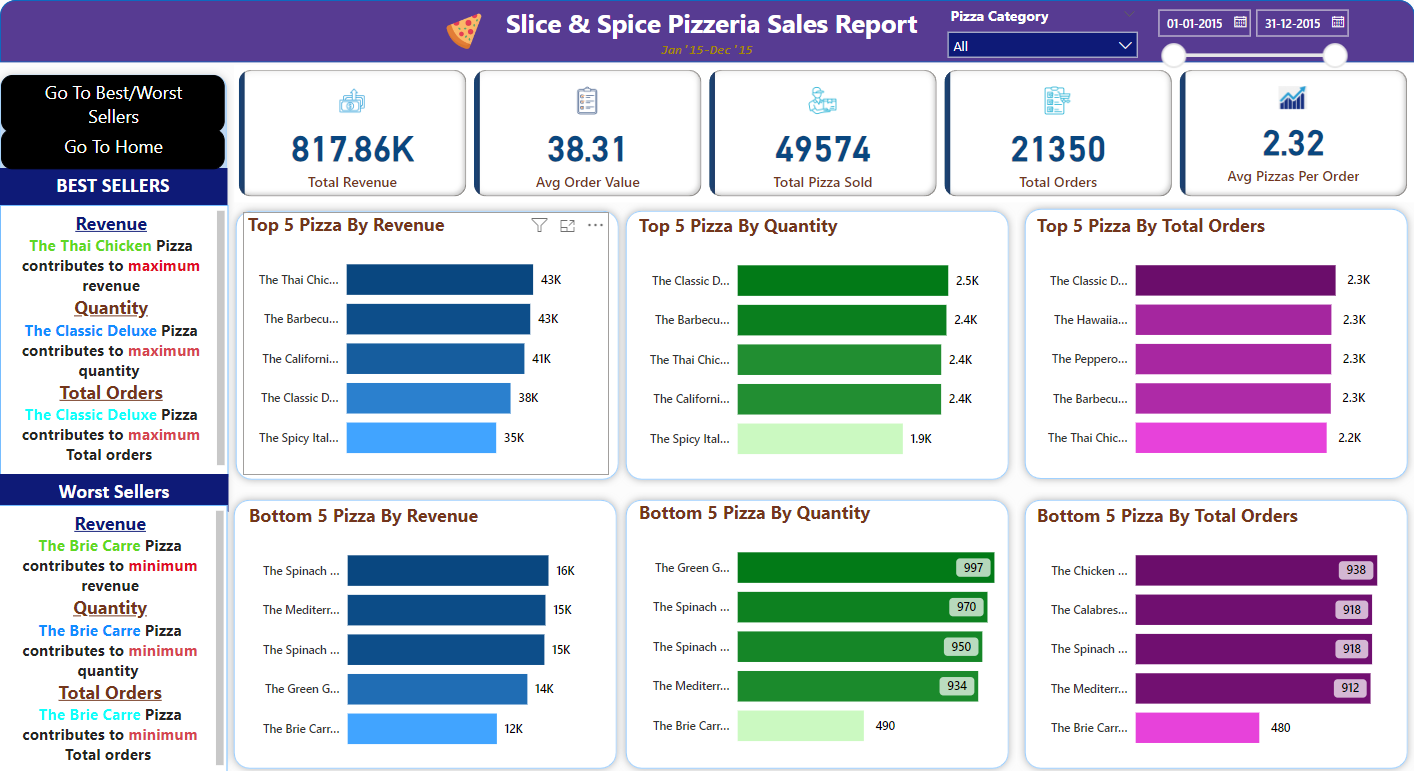

This screenshot's page, from the dashboard's own definition file:
{"tool":"powerbi","page":{"name":"Best/Worst Sellers","canvas":[1500,820],"ordinal":1},"visuals":[{"type":"cardVisual","fields":{"Data":["firstdb pizza_sales.Total Revenue","firstdb pizza_sales.Avg Order Value","firstdb pizza_sales.Total Pizza Sold","firstdb pizza_sales.Total Orders","firstdb pizza_sales.Avg Pizzas Per Order"]},"box":[252.5,78.8,1230,142.5],"z":0},{"type":"shape","box":[8.8,11.2,1473.8,65],"z":1000},{"type":"textbox","box":[492.5,11.2,513.8,52.5],"z":2000},{"type":"textbox","box":[691.2,48.8,117.5,30],"z":3000},{"type":"image","box":[465,20,53.8,47.5],"z":4000},{"type":"shape","box":[246.2,222.5,415,296.2],"z":5000},{"type":"shape","box":[0,81.2,252.5,738.8],"z":6000},{"type":"textbox","box":[7.5,186.2,237.5,38.8],"z":7000},{"type":"textbox","box":[8.8,225,237.5,282.5],"z":8000},{"type":"textbox","box":[8.8,505,237.5,38.8],"z":9000},{"type":"slicer","title":"Pizza","fields":{"Values":["firstdb pizza_sales.pizza_category"]},"box":[985,12.5,217.5,61.2],"z":10000},{"type":"slicer","title":"Pizza","fields":{"Values":["firstdb pizza_sales.order_date"]},"box":[1202.5,11.2,217.5,100],"z":11000},{"type":"shape","box":[652.5,222.5,415,296.2],"z":12000},{"type":"shape","box":[1067.5,221.2,415,297.5],"z":13000},{"type":"shape","box":[243.8,523.8,415,296.2],"z":14000},{"type":"shape","box":[652.5,523.8,415,296.2],"z":15000},{"type":"shape","box":[1067.5,523.8,415,296.2],"z":16000},{"type":"barChart","title":"Top 5 Pizza By Revenue","fields":{"Category":["firstdb pizza_sales.pizza_name"],"Y":["firstdb pizza_sales.Total Revenue"]},"box":[261.2,232.5,381.2,273.8],"z":17000},{"type":"barChart","title":"Bottom 5 Pizza By Revenue","fields":{"Category":["firstdb pizza_sales.pizza_name"],"Y":["firstdb pizza_sales.Total Revenue"]},"box":[262.5,535,381.2,273.8],"z":18000},{"type":"barChart","title":"Top 5 Pizza By Quantity","fields":{"Category":["firstdb pizza_sales.pizza_name"],"Y":["firstdb pizza_sales.Total Pizza Sold"]},"box":[668.8,233.8,381.2,273.8],"z":19000},{"type":"barChart","title":"Bottom 5 Pizza By Quantity","fields":{"Category":["firstdb pizza_sales.pizza_name"],"Y":["firstdb pizza_sales.Total Pizza Sold"]},"box":[668.8,532.5,381.2,273.8],"z":20000},{"type":"barChart","title":"Top 5 Pizza By Total Orders","fields":{"Category":["firstdb pizza_sales.pizza_name"],"Y":["firstdb pizza_sales.Total Orders"]},"box":[1083.8,233.8,381.2,272.5],"z":21000},{"type":"barChart","title":"Bottom 5 Pizza By Total Orders","fields":{"Category":["firstdb pizza_sales.pizza_name"],"Y":["firstdb pizza_sales.Total Orders"]},"box":[1083.8,535,381.2,272.5],"z":22000},{"type":"textbox","box":[7.5,537.5,237.5,282.5],"z":23000},{"type":"image","box":[176.2,91.2,85,45],"z":24000},{"type":"image","box":[8.8,88.8,43.8,43.8],"z":25000},{"type":"actionButton","title":"Go To Best/Worst Sellers","box":[9.2,89.1,232.6,60.5],"z":26000},{"type":"actionButton","title":"Go To Home","box":[9.2,145.5,232.6,42],"z":27000}]}

Visuals, with their boxes in screenshot pixels (x1, y1, x2, y2), scaled from the page's 1500x820 canvas onto the 1414x771 screenshot:
cardVisual - firstdb pizza_sales.Total Revenue x firstdb pizza_sales.Avg Order Value: <box>238,74,1398,208</box>
shape: <box>8,11,1398,72</box>
textbox: <box>464,11,949,60</box>
textbox: <box>652,46,762,74</box>
image: <box>438,19,489,63</box>
shape: <box>232,209,623,488</box>
shape: <box>0,76,238,770</box>
textbox: <box>7,175,231,212</box>
textbox: <box>8,212,232,477</box>
textbox: <box>8,475,232,511</box>
"Pizza" slicer: <box>929,12,1134,69</box>
"Pizza" slicer: <box>1134,11,1339,105</box>
shape: <box>615,209,1006,488</box>
shape: <box>1006,208,1398,488</box>
shape: <box>230,492,621,770</box>
shape: <box>615,492,1006,770</box>
shape: <box>1006,492,1398,770</box>
"Top 5 Pizza By Revenue" barChart: <box>246,219,606,476</box>
"Bottom 5 Pizza By Revenue" barChart: <box>247,503,607,760</box>
"Top 5 Pizza By Quantity" barChart: <box>630,220,990,477</box>
"Bottom 5 Pizza By Quantity" barChart: <box>630,501,990,758</box>
"Top 5 Pizza By Total Orders" barChart: <box>1022,220,1381,476</box>
"Bottom 5 Pizza By Total Orders" barChart: <box>1022,503,1381,759</box>
textbox: <box>7,505,231,770</box>
image: <box>166,86,246,128</box>
image: <box>8,83,50,125</box>
"Go To Best/Worst Sellers" actionButton: <box>9,84,228,141</box>
"Go To Home" actionButton: <box>9,137,228,176</box>
